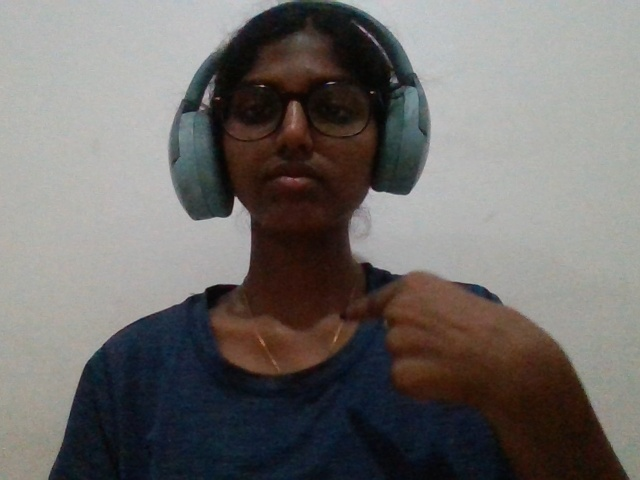Me: (299, 245, 597, 480)
